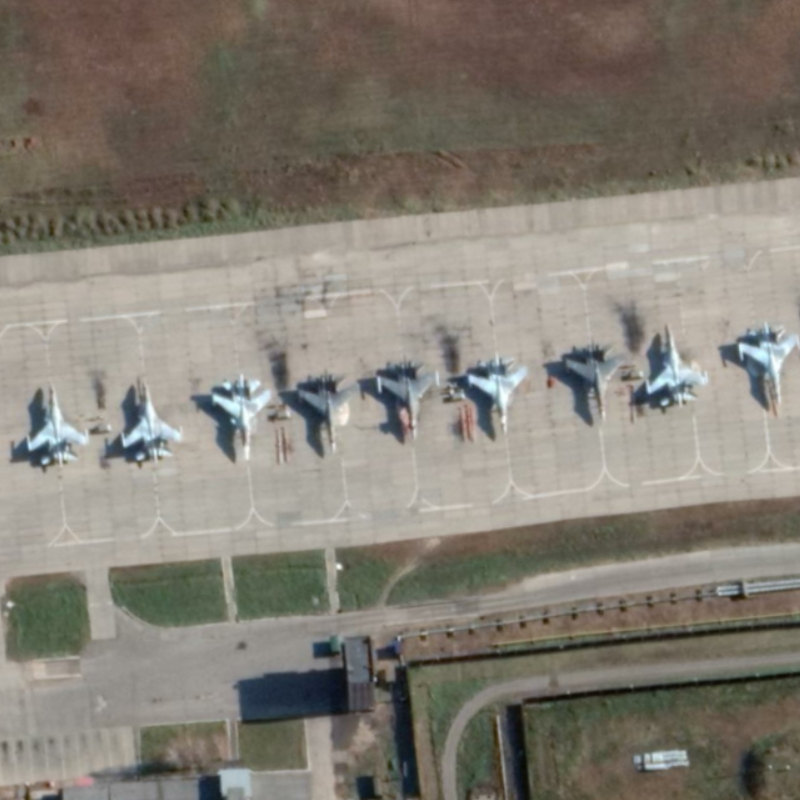A1: (294, 367, 364, 457), (642, 322, 712, 410), (736, 319, 800, 414), (563, 339, 633, 425), (375, 354, 441, 444), (118, 377, 185, 464), (24, 382, 90, 469), (466, 353, 530, 438)
A19: (210, 372, 272, 463)
